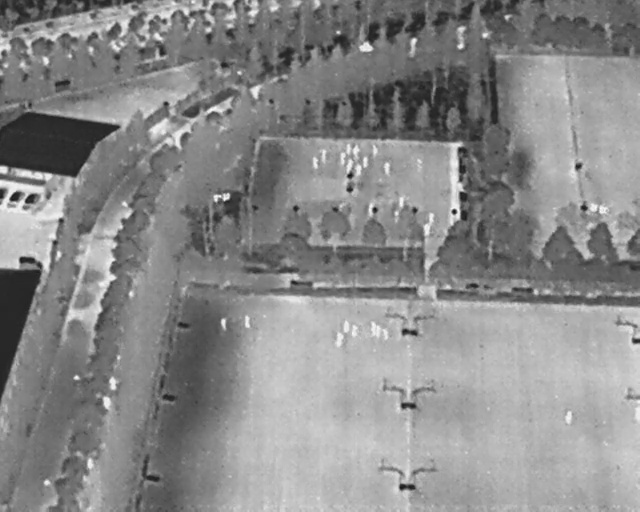Person: (335, 331, 344, 347), (352, 144, 361, 158), (423, 222, 431, 237), (371, 144, 379, 158), (383, 161, 391, 175), (565, 410, 572, 425), (220, 317, 227, 331), (244, 315, 251, 329), (312, 156, 319, 170), (339, 151, 346, 165), (342, 320, 349, 333), (351, 324, 358, 337), (375, 325, 382, 338), (428, 212, 435, 225), (355, 163, 362, 176), (368, 202, 374, 217), (370, 321, 376, 335), (321, 149, 327, 163), (362, 156, 369, 168), (347, 158, 354, 169), (382, 328, 388, 340), (346, 143, 352, 155), (346, 163, 352, 174), (399, 196, 404, 209)
